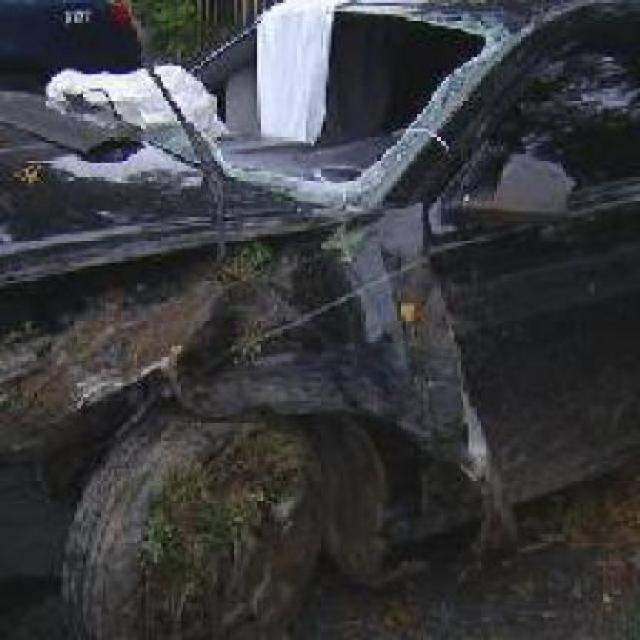damaged-windscreen: (150, 0, 469, 192)
